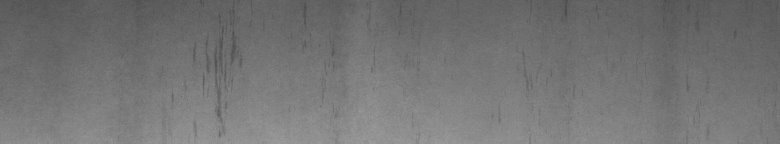ka: (193, 28, 242, 136)
